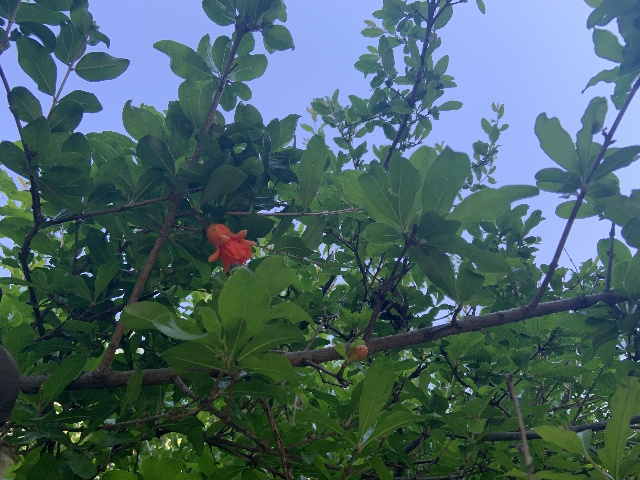bud: (350, 344, 367, 361)
flower: (205, 223, 256, 273)
